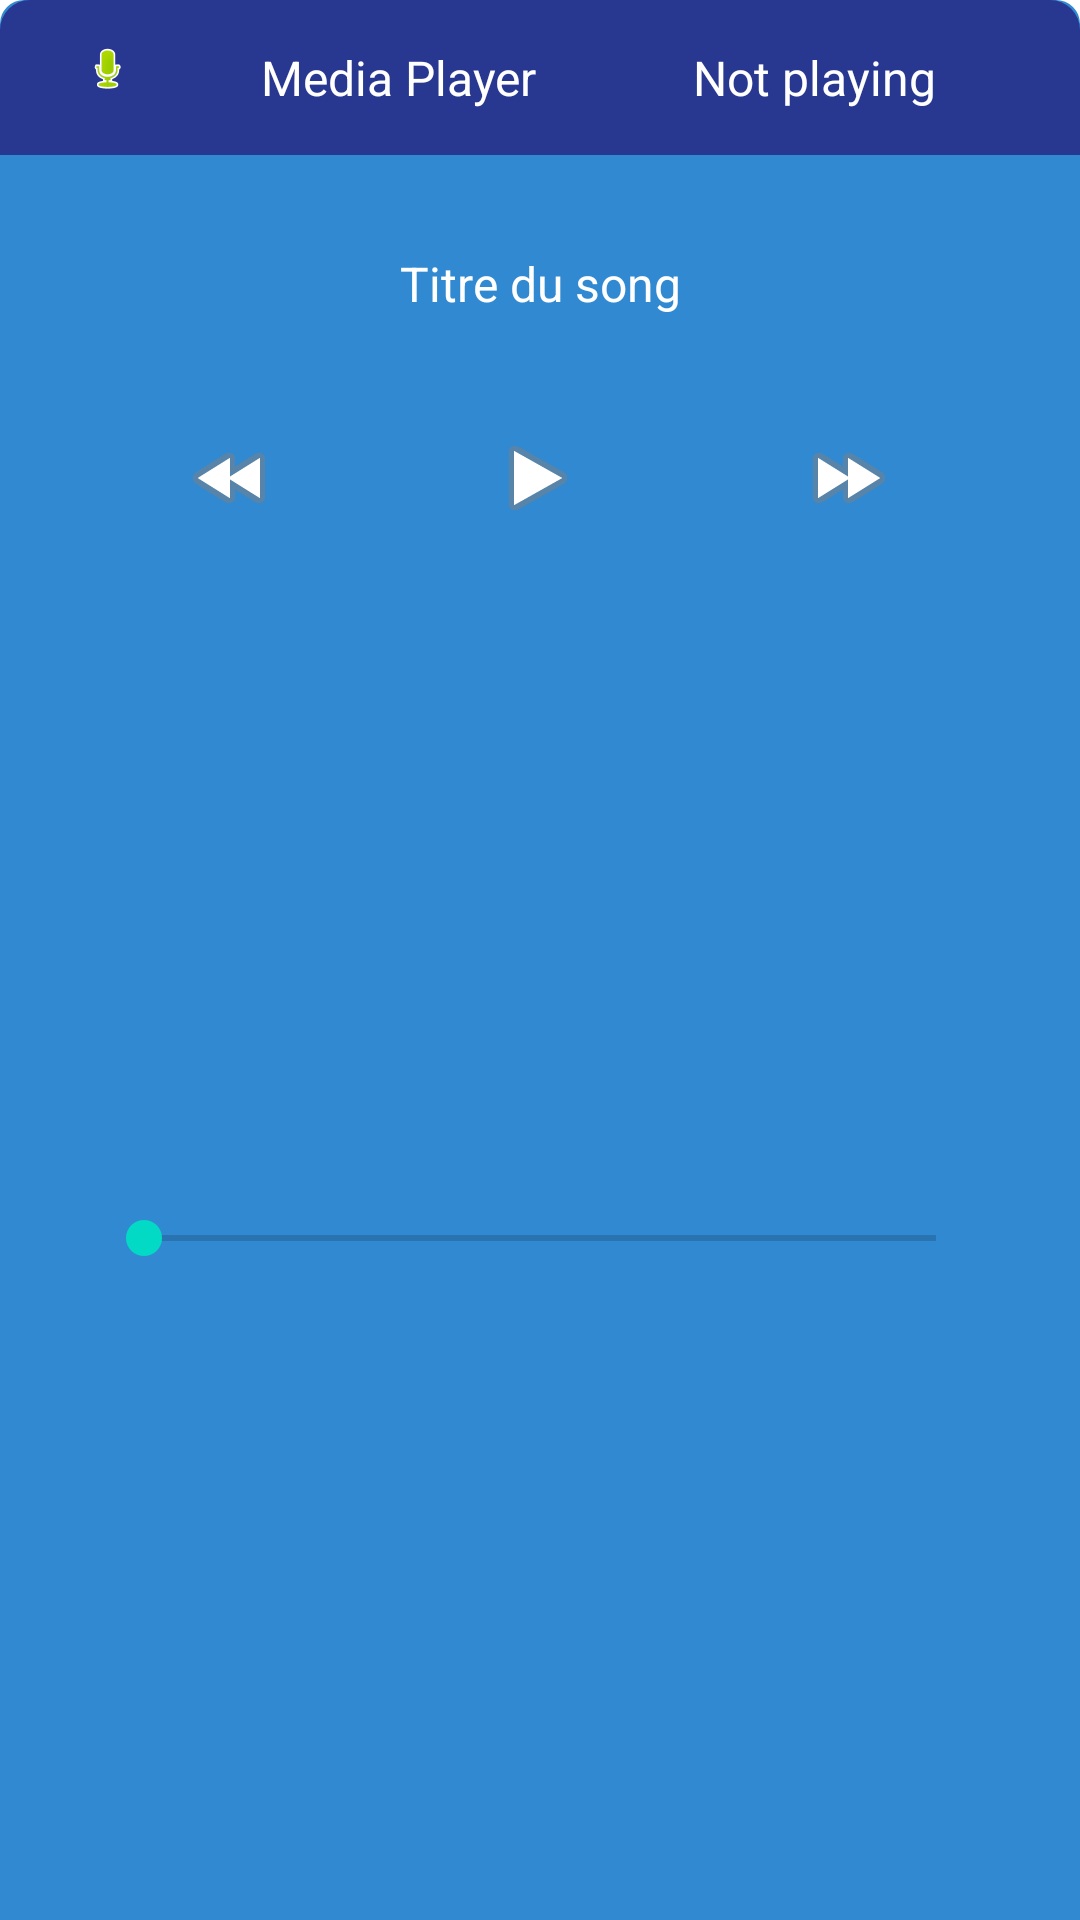

Point at icon controls on the screen. Image size 1080 x 1920, points as (x=x, y=y).
play: (x=538, y=478)
rew: (x=229, y=478)
